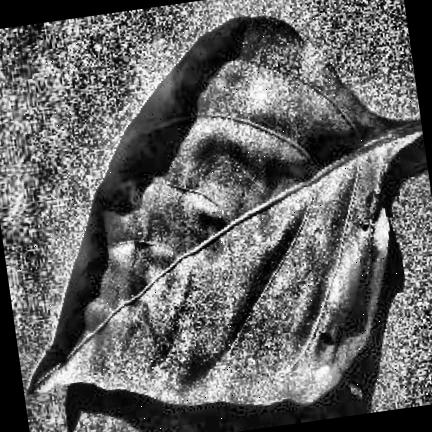leaf: (29, 20, 422, 405)
